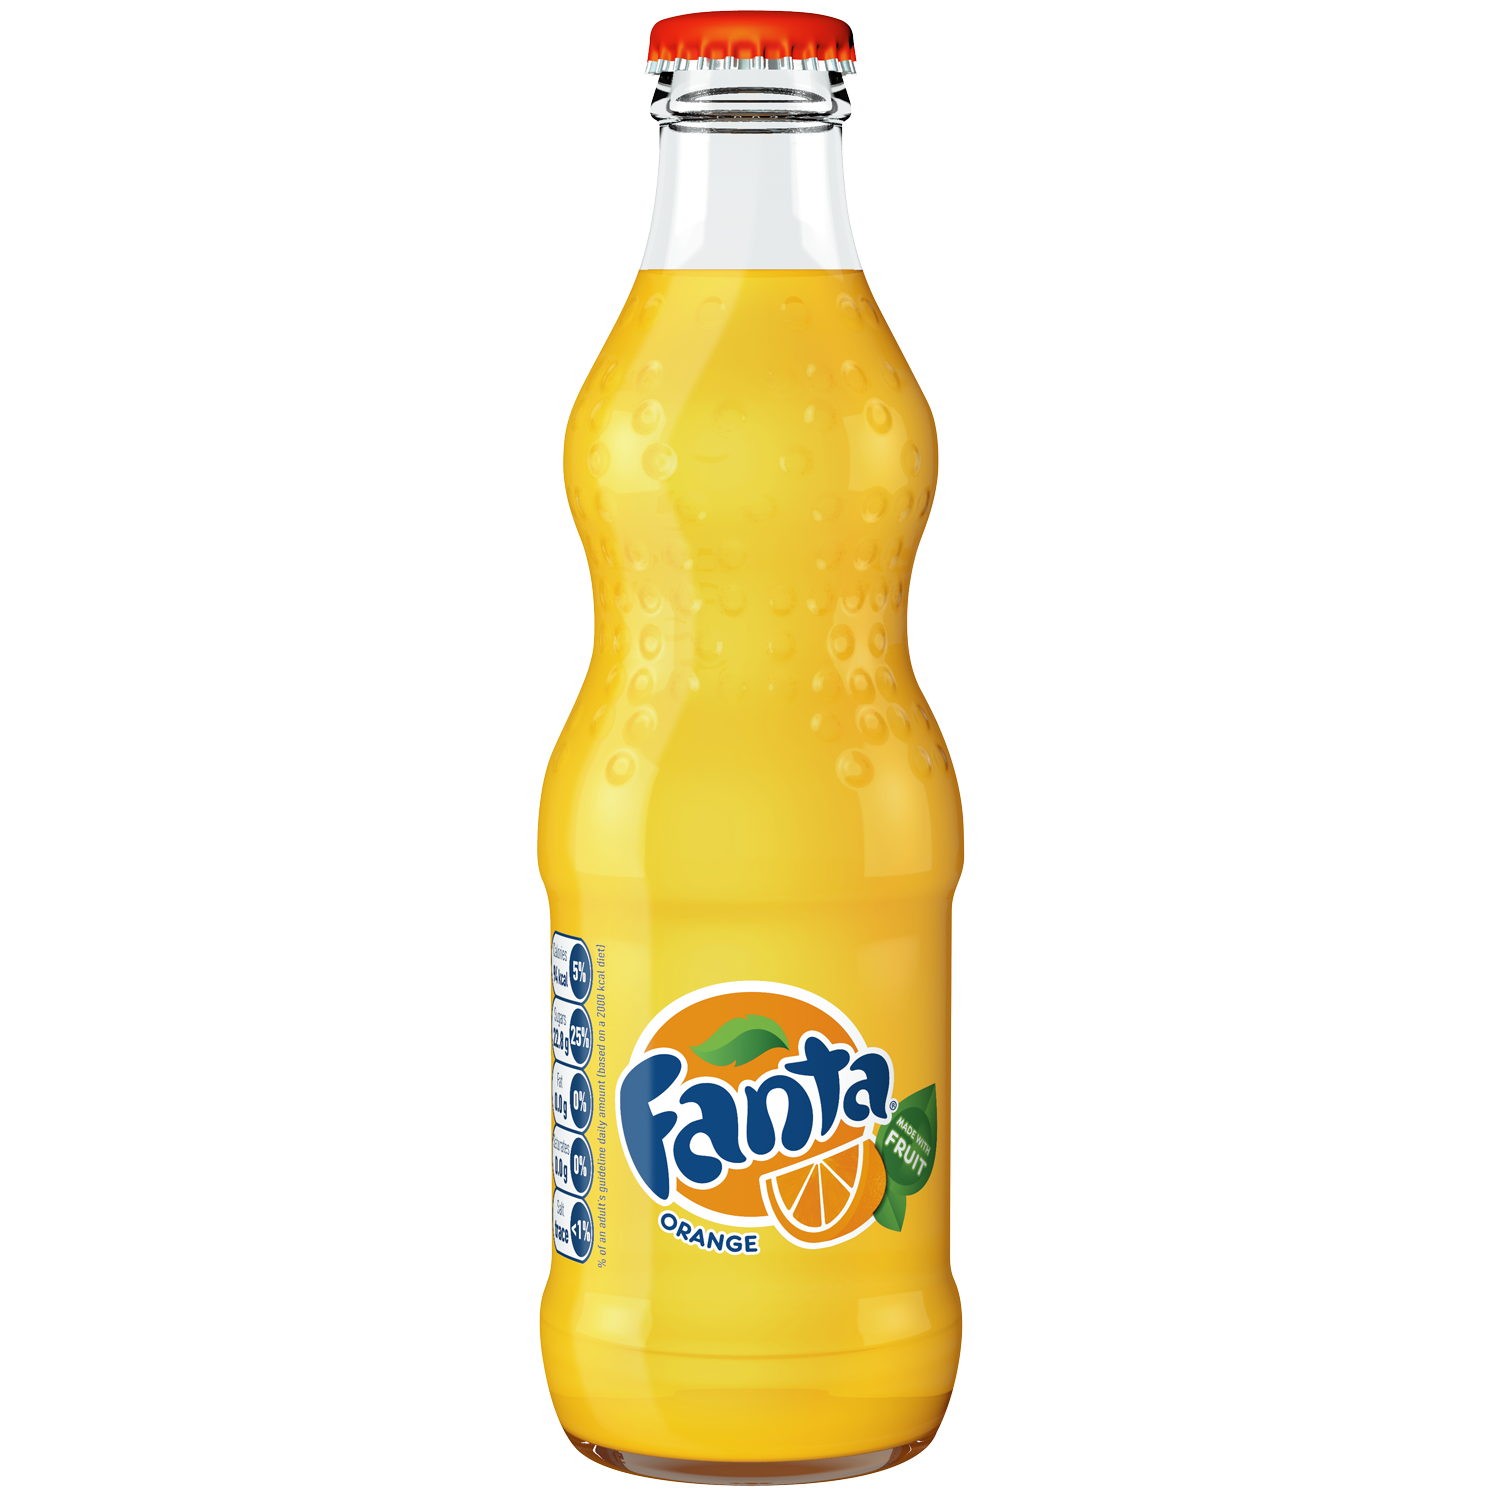Fanta: (501, 32, 1022, 1490)
